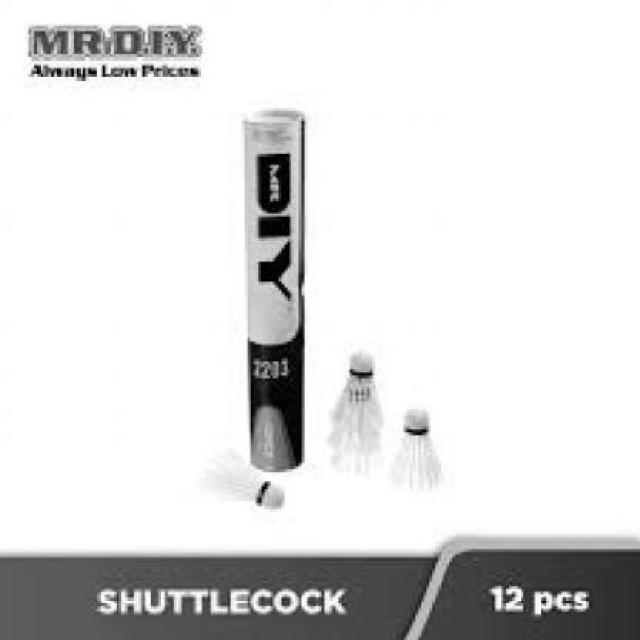Shuttlecock: (328, 356, 388, 478), (389, 404, 448, 496), (203, 446, 285, 509)
